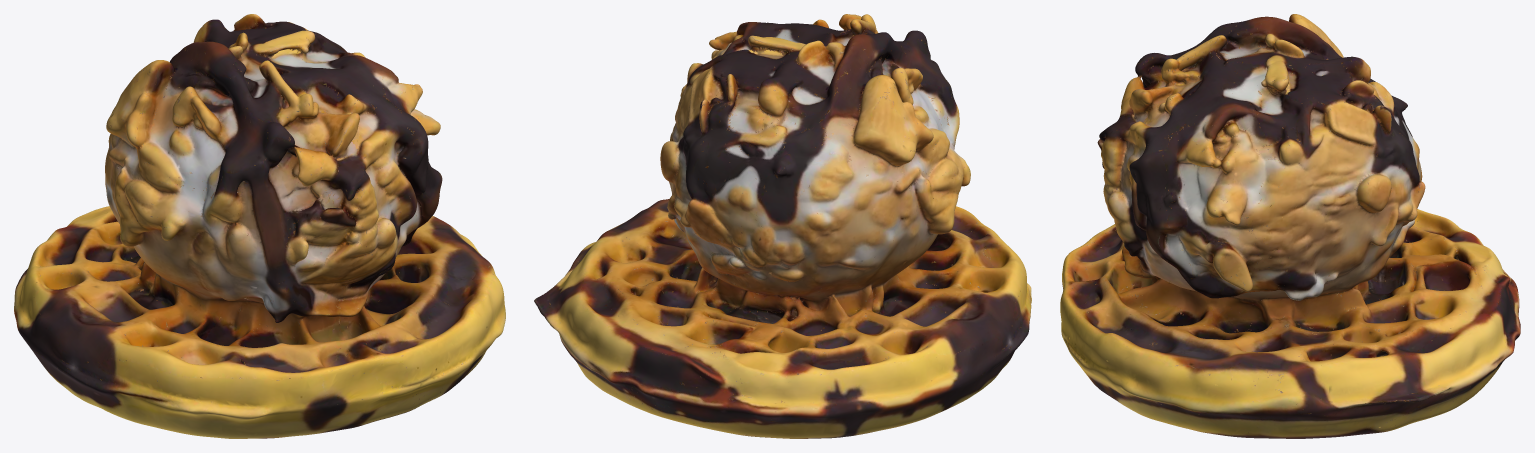
File: churro.glb
3 renders of one model, left to right at view 1: azimuth 30°, elevation 25°; view 2: azimuth 150°, elevation 25°; view 3: azimuth 270°, elevation 25°, orthographic. The views are drawn at different scales.
Bounding box in the file's own units: 2 × 1.49 × 1.98.
1 material, 1 textured.
